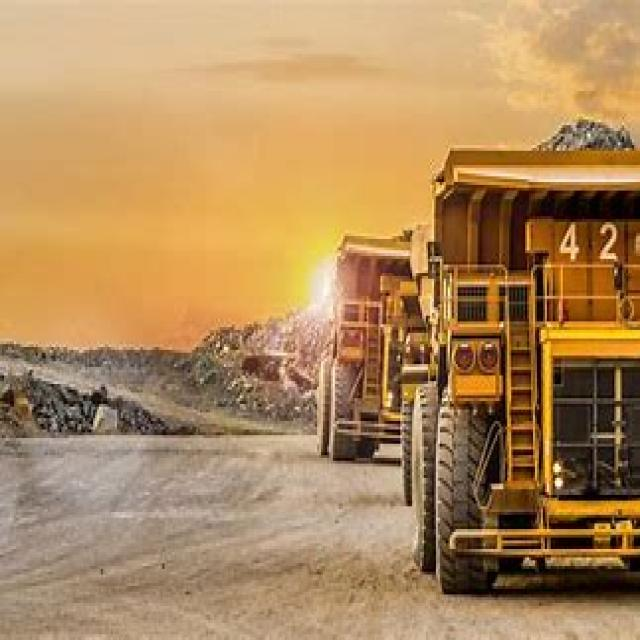dump_truck: (390, 128, 638, 569), (295, 196, 470, 466)
